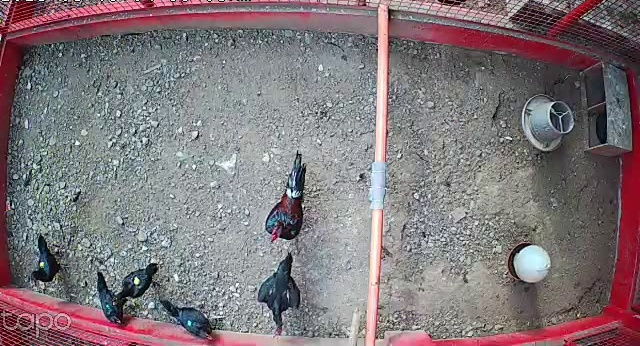Chicken: (256, 251, 307, 339), (27, 228, 72, 285), (160, 299, 216, 343), (93, 268, 125, 328), (116, 261, 161, 301)
Rooster: (263, 151, 315, 245)
Saddle_Color_Blue: (188, 318, 195, 325)
Saddle_Color_Yellow: (133, 276, 143, 285)
Saddle_Color_YellowGreen: (39, 260, 48, 269)
